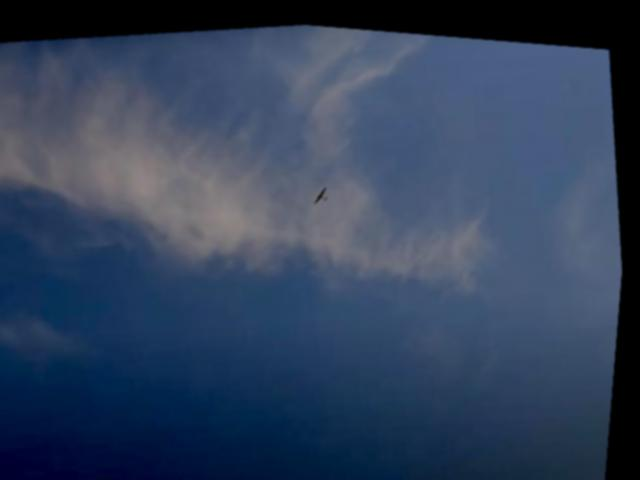iha: (312, 180, 332, 200)
